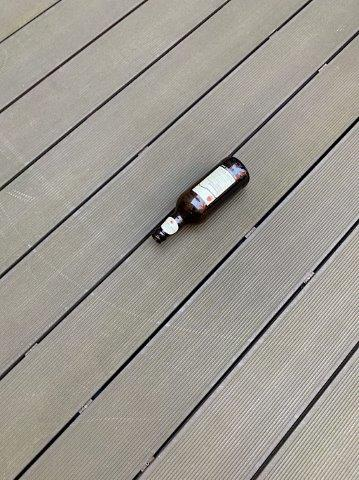botolkaca: (152, 157, 251, 244)
